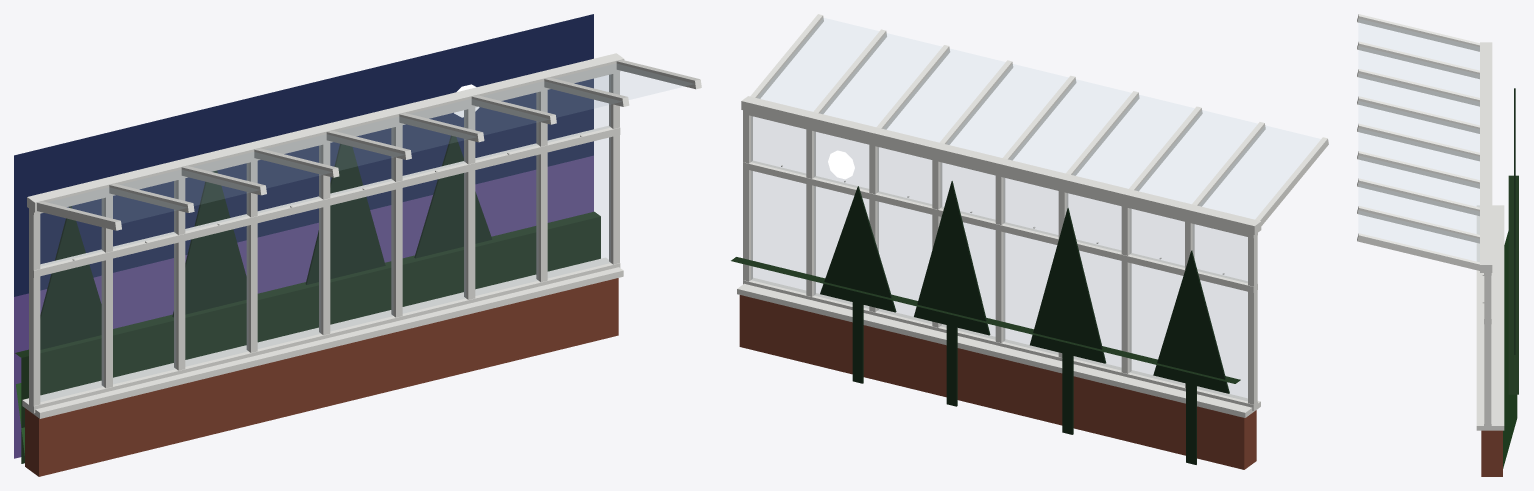
Rendered from conservatory_glazing.glb.
The picture shows the model from 3 angles, left to right: view 1: azimuth 30°, elevation 25°; view 2: azimuth 150°, elevation 25°; view 3: azimuth 270°, elevation 25°; orthographic projection. The views are drawn at different scales.
Parts seen in each view (by area): view 1: conservatory_glazing; view 2: conservatory_glazing; view 3: conservatory_glazing.
Boxes of the visible parts, x1,y1,x2,y2 form: conservatory_glazing: [14, 14, 701, 476]; conservatory_glazing: [731, 14, 1328, 469]; conservatory_glazing: [1357, 14, 1519, 476].
Size of the model in its own units: 6.1 by 3.1 by 1.88.
